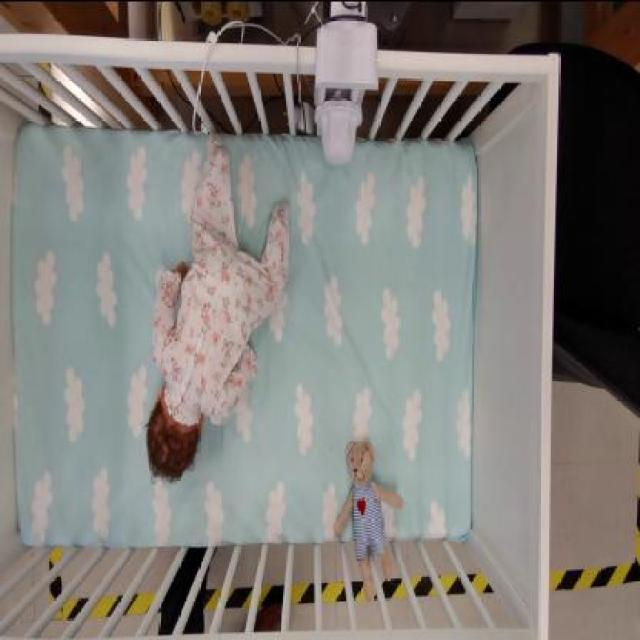baby: (140, 128, 290, 487)
